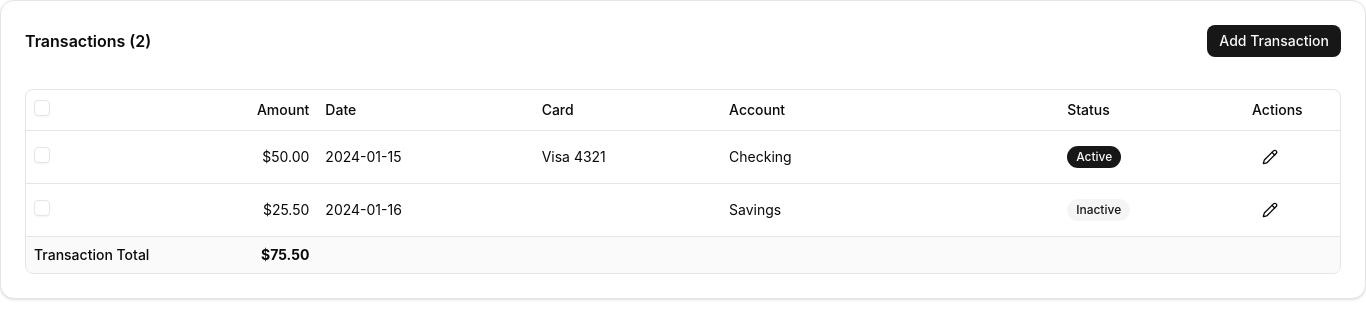
Test: ReceiptTransactionsCard › shows Delete button with count when items are selected
Expected: the button "delete" is not shown
Click the checkbox named "Select Checking transaction" at (42, 154), box [34,146,50,162]
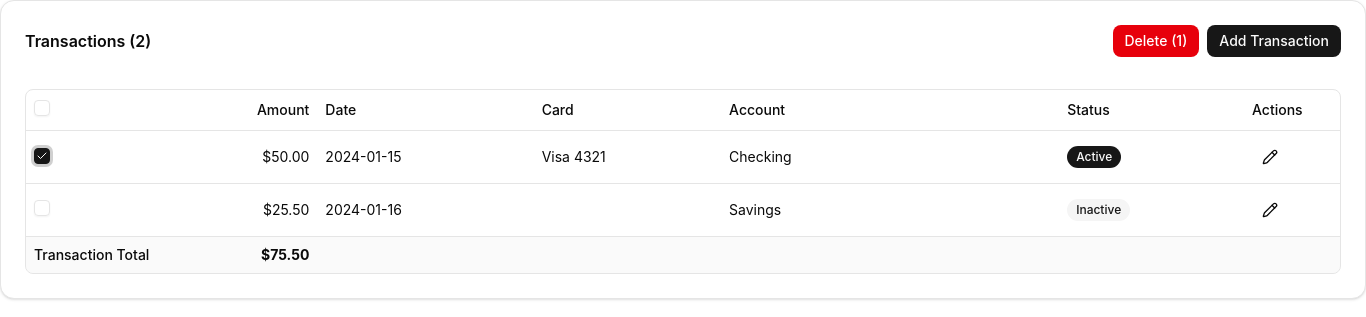
Result: the button "Delete (1)" is shown at [1112,25,1199,57]
